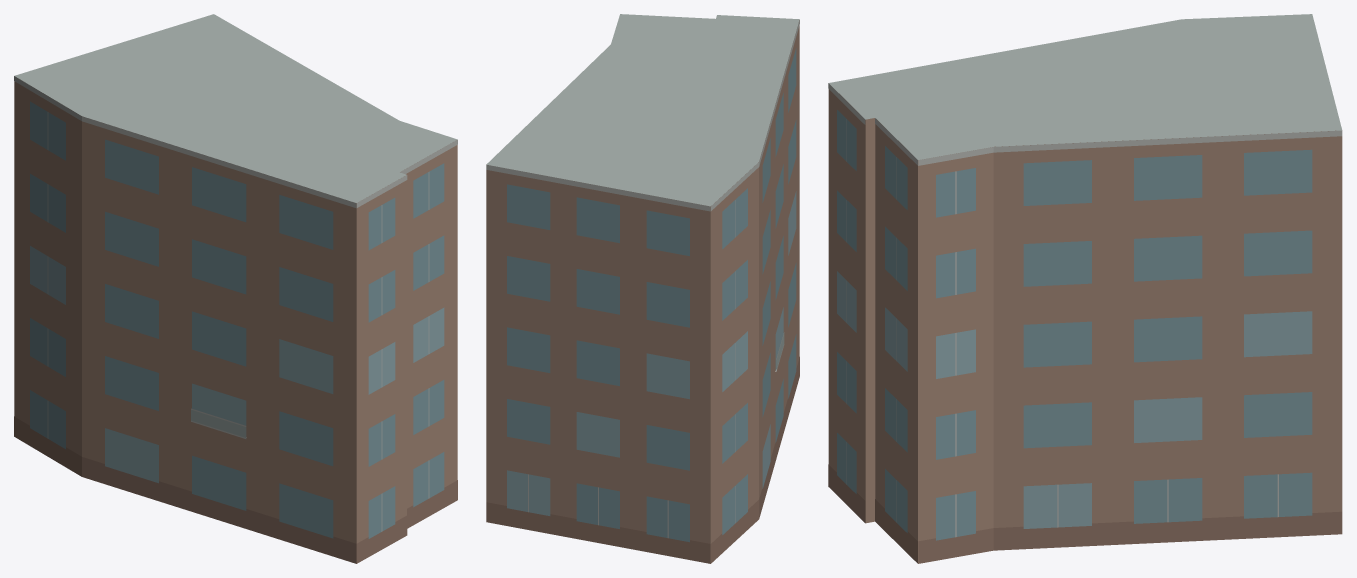
The model's file is survey-upis-32759464.glb.
3 renders of one model, left to right at view 1: azimuth 30°, elevation 25°; view 2: azimuth 150°, elevation 25°; view 3: azimuth 270°, elevation 25°, orthographic. The views are drawn at different scales.
Parts seen in each view (by area): view 1: survey-upis-32759464.tmp; view 2: survey-upis-32759464.tmp; view 3: survey-upis-32759464.tmp.
Boxes of the visible parts, left/top/right/bottom form: survey-upis-32759464.tmp: left=14, top=14, right=457, bottom=563; survey-upis-32759464.tmp: left=486, top=14, right=799, bottom=563; survey-upis-32759464.tmp: left=828, top=14, right=1342, bottom=563.
Bounding box in the file's own units: 13.21 × 17 × 19.62.
